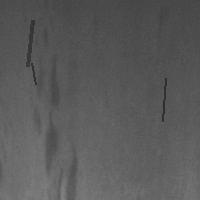inclusion: (30, 23, 78, 198), (25, 18, 34, 68), (160, 76, 167, 123), (29, 61, 37, 86)
